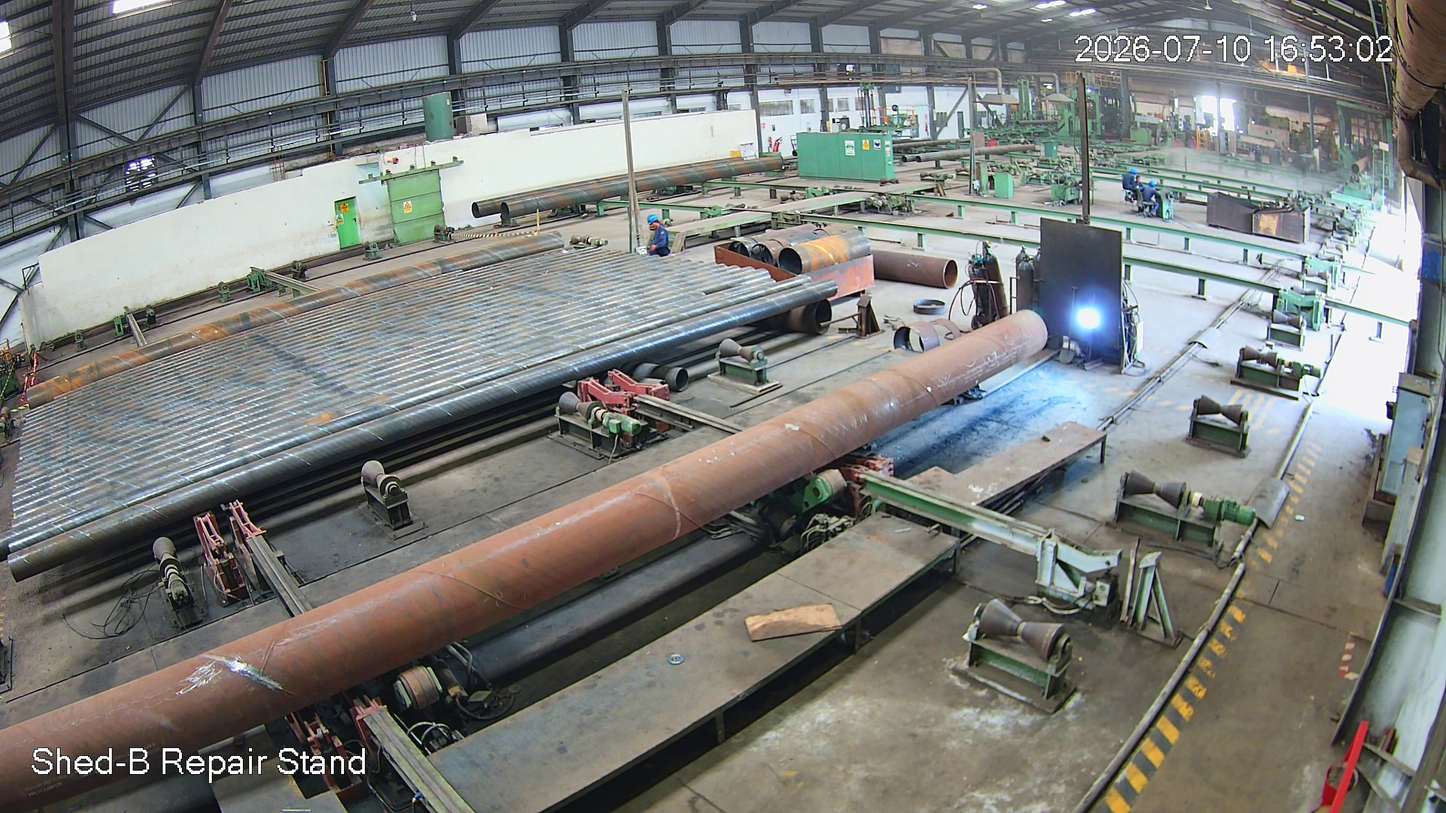Helmet: (646, 213, 666, 234)
Person: (646, 214, 673, 258)
